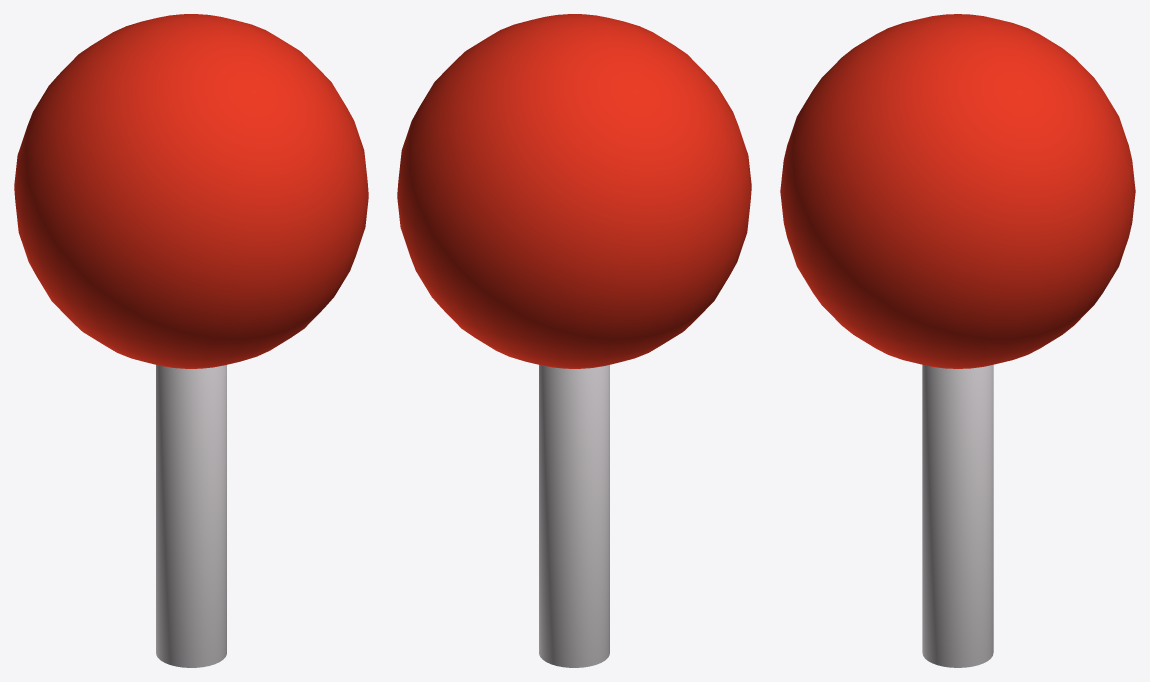
The model's file is mapPin.glb.
The picture shows the model from 3 angles, left to right: view 1: azimuth 30°, elevation 25°; view 2: azimuth 150°, elevation 25°; view 3: azimuth 270°, elevation 25°; orthographic projection.
Parts seen in each view (by area): view 1: Sphere, Cylinder; view 2: Sphere, Cylinder; view 3: Sphere, Cylinder.
Part boxes in pixels (left/top/right/bottom): Sphere: left=14, top=14, right=368, bottom=368; Cylinder: left=156, top=365, right=226, bottom=667; Sphere: left=397, top=14, right=751, bottom=368; Cylinder: left=539, top=365, right=609, bottom=667; Sphere: left=780, top=14, right=1135, bottom=368; Cylinder: left=922, top=364, right=993, bottom=667.
Size of the model in its own units: 2 by 3.87 by 2.
